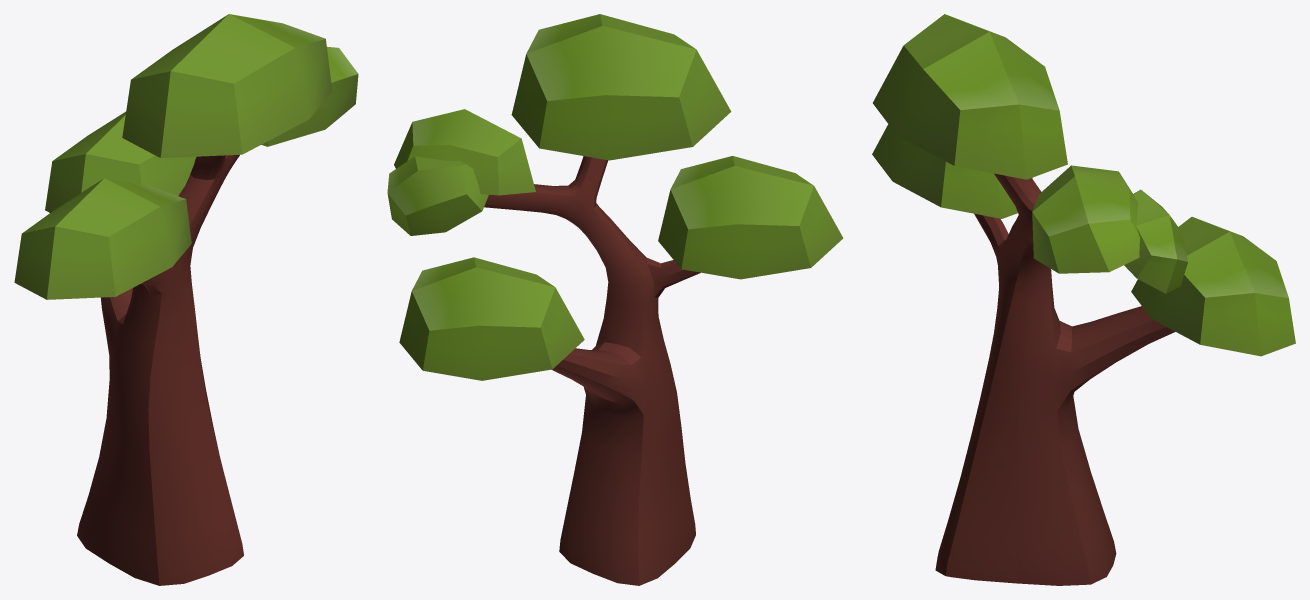
Rendered from gros-arbre-3.glb.
The picture shows the model from 3 angles, left to right: view 1: azimuth 30°, elevation 25°; view 2: azimuth 150°, elevation 25°; view 3: azimuth 270°, elevation 25°; orthographic projection. The views are drawn at different scales.
Parts seen in each view (by area): view 1: Oak_Tree_02; view 2: Oak_Tree_02; view 3: Oak_Tree_02.
Boxes of the visible parts, x1=… form: Oak_Tree_02: x1=14, y1=14, x2=358, y2=585; Oak_Tree_02: x1=387, y1=14, x2=843, y2=585; Oak_Tree_02: x1=872, y1=14, x2=1295, y2=585.
Size of the model in its own units: 5.71 by 7.61 by 5.18.
1 material, 1 textured.
